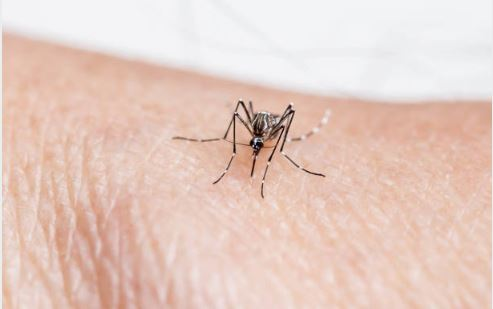dengue_mosquito: (201, 99, 326, 198)
